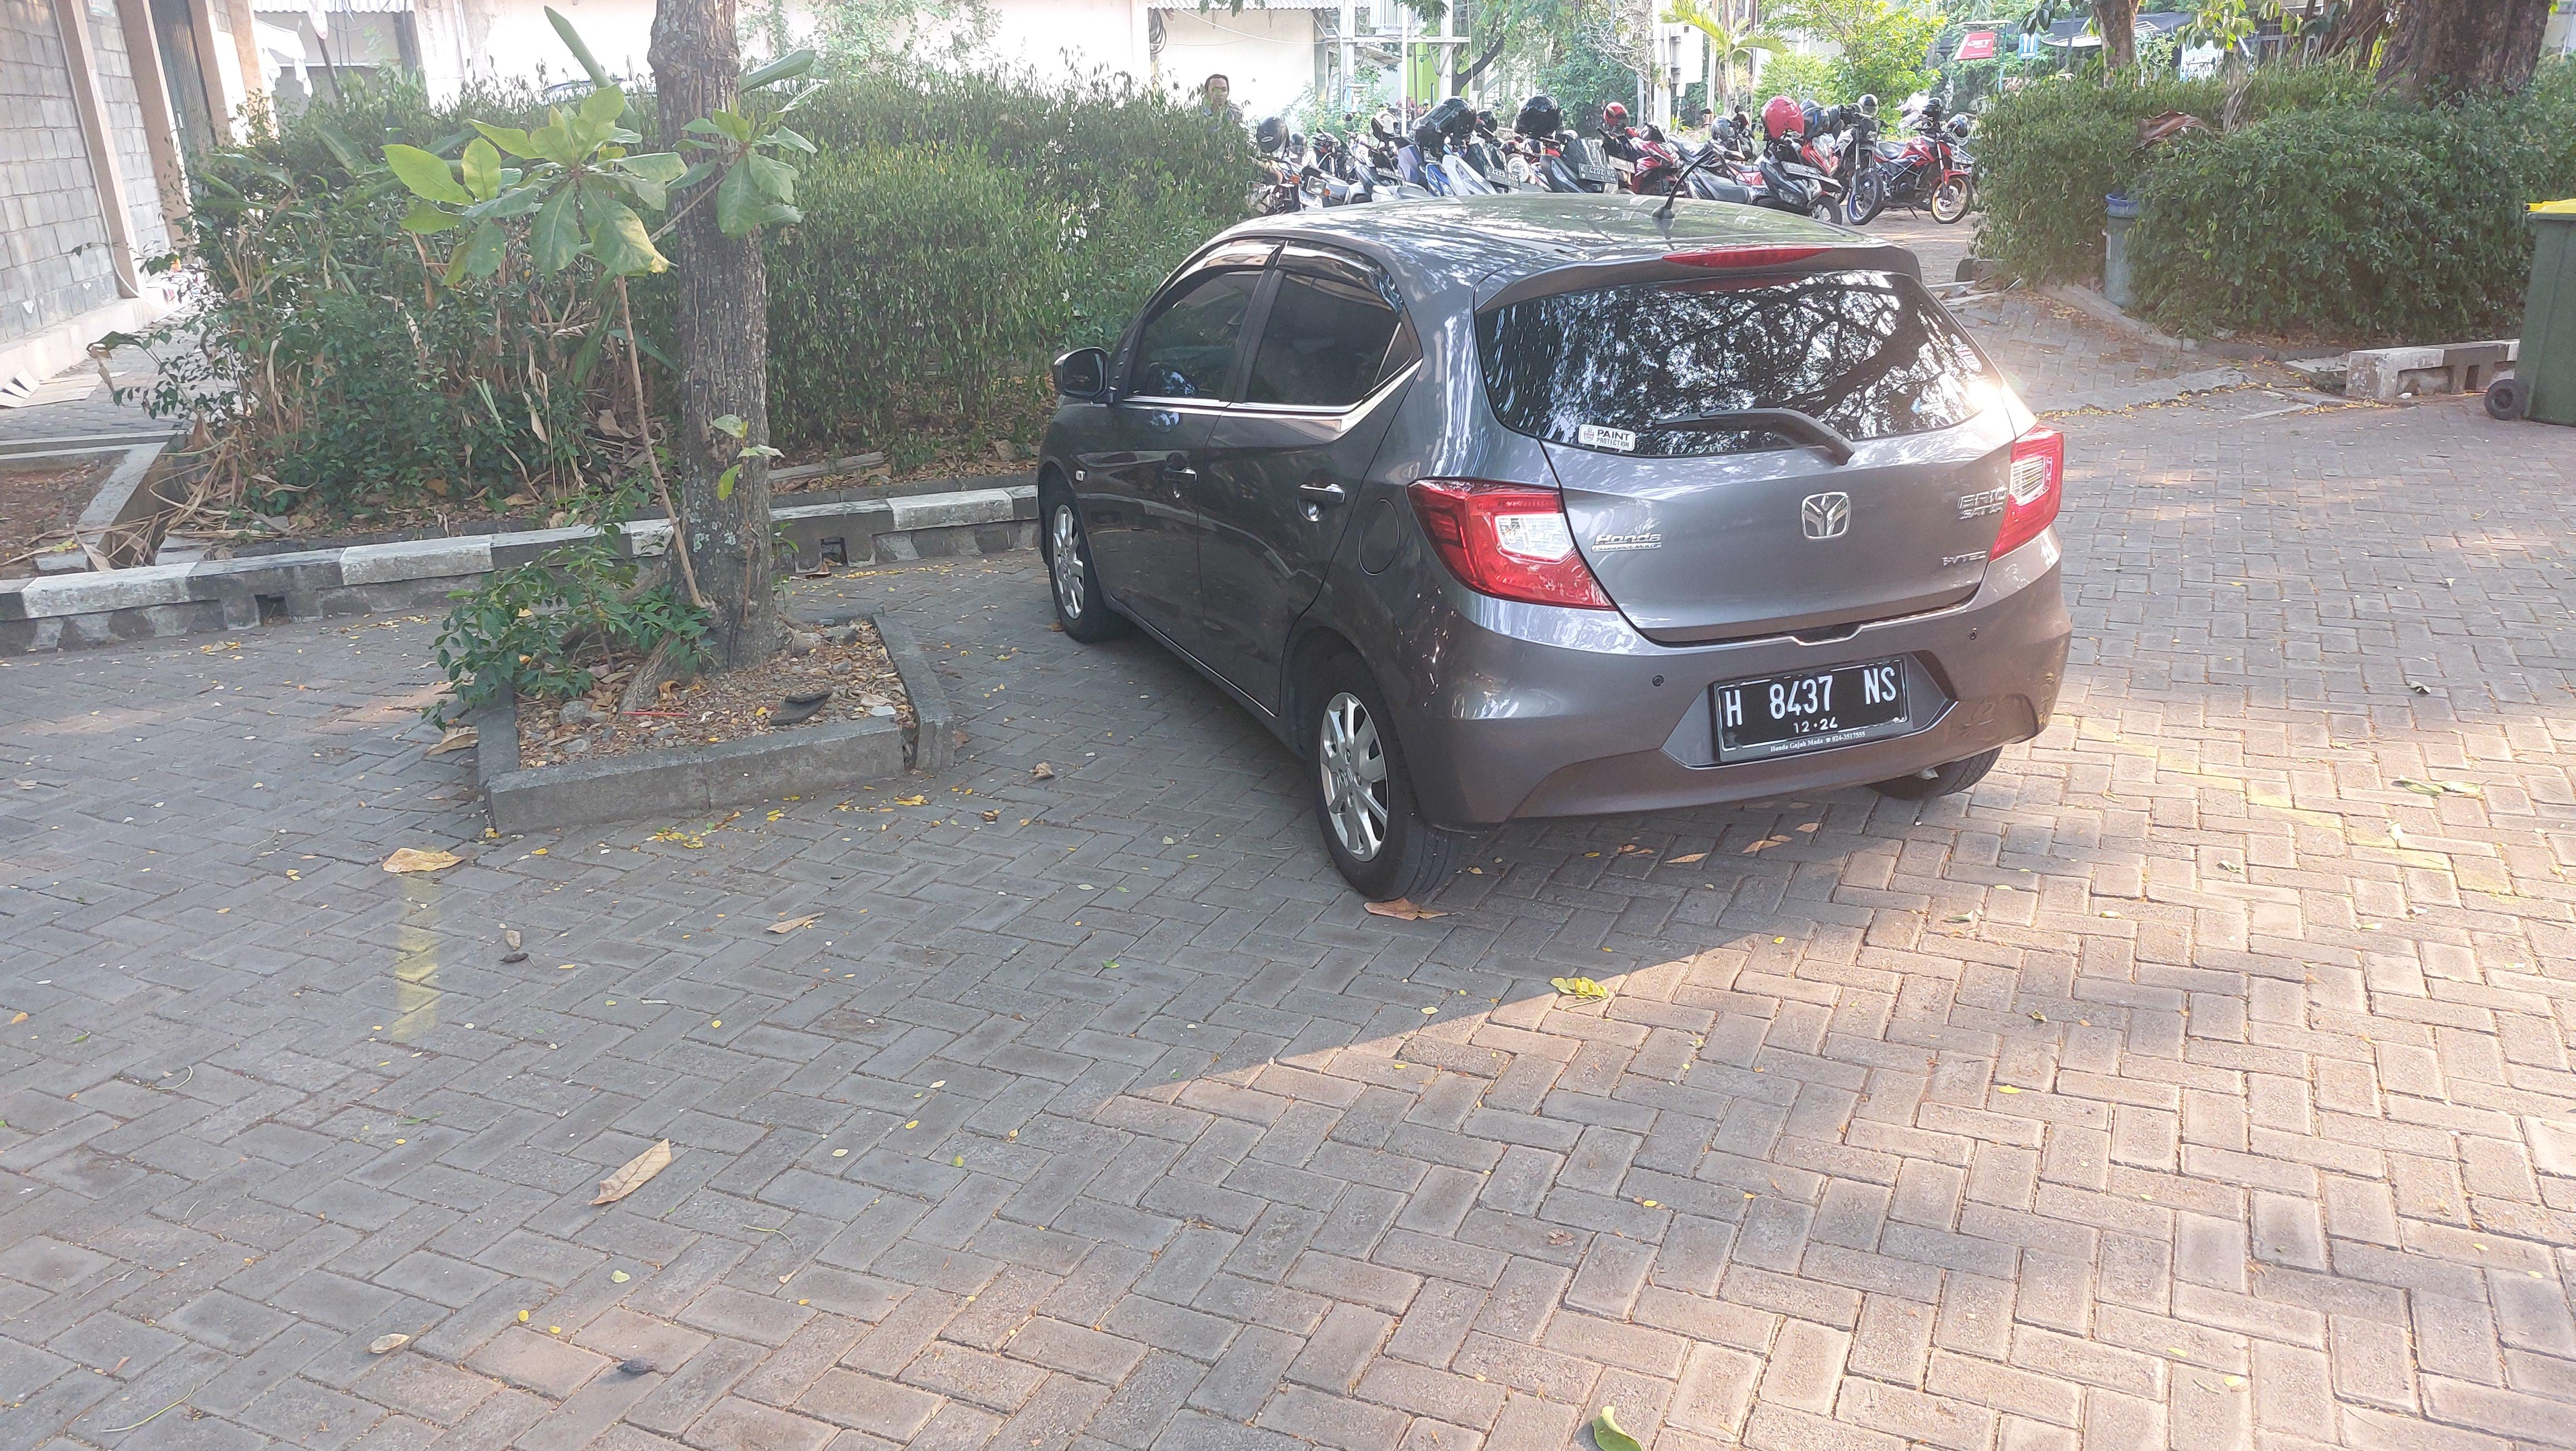occupied: (890, 185, 2247, 953)
